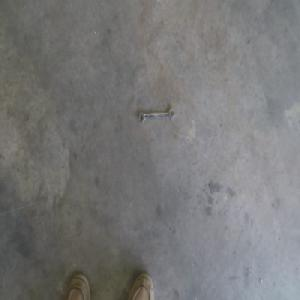Wrench: (136, 108, 175, 126)
